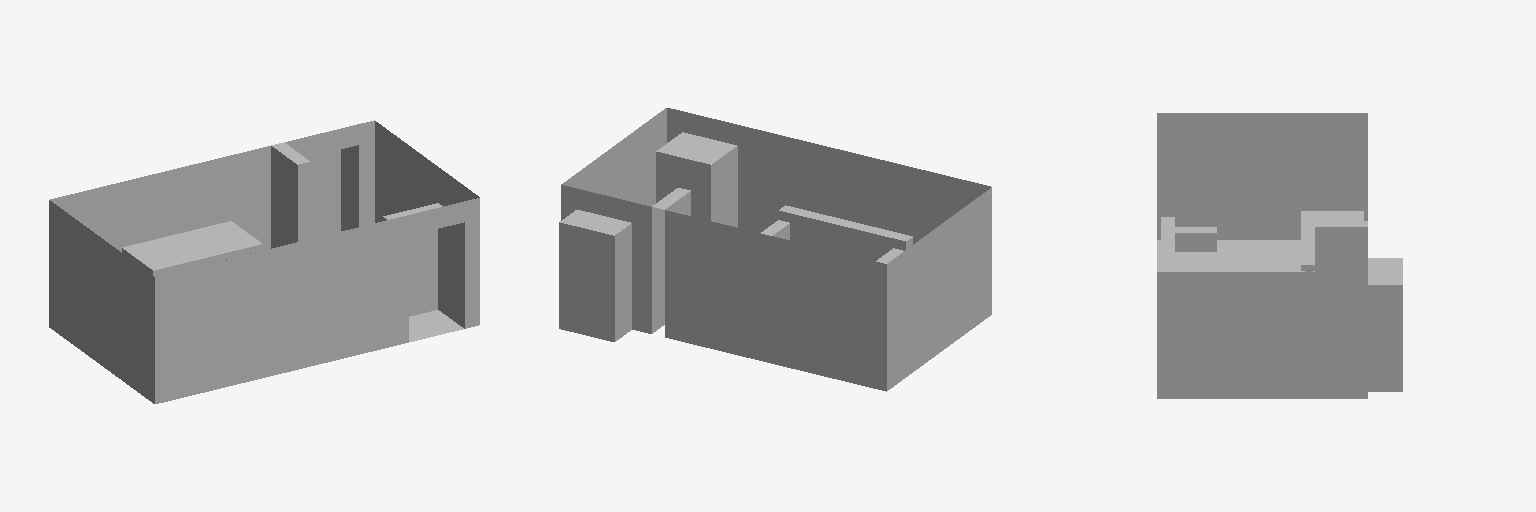
Rendered from Studiobox.obj.
The picture shows the model from 3 angles: view 1: azimuth 30°, elevation 25°; view 2: azimuth 150°, elevation 25°; view 3: azimuth 270°, elevation 25°; orthographic projection.
Parts seen in each view (by area): view 1: Box001, Box002; view 2: Box001, Box003; view 3: Box001, Box003, Box002.
Part boxes in pixels (x1,y1,x2,y2): Box001: (49,120,479,403); Box002: (122,221,262,276); Box001: (559,108,991,391); Box003: (761,205,912,263); Box001: (1157,113,1402,398); Box003: (1161,217,1216,271); Box002: (1301,211,1363,271).
Bounding box in the file's own units: 5.34 × 2 × 3.5.